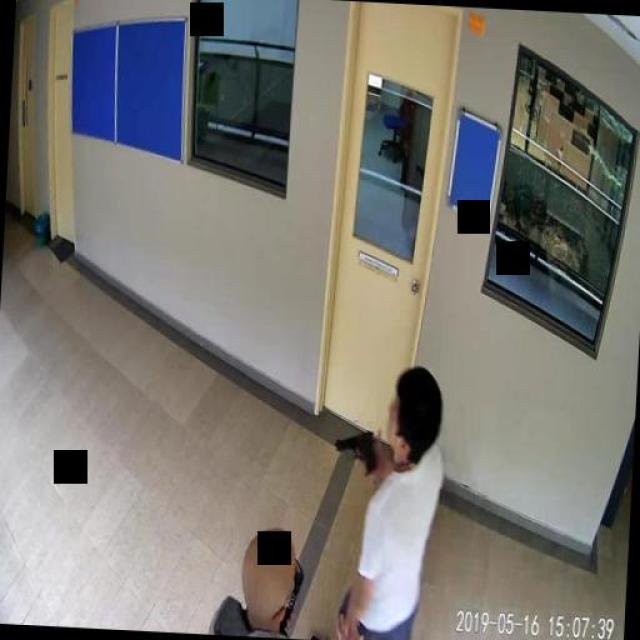gun: (332, 426, 380, 474)
